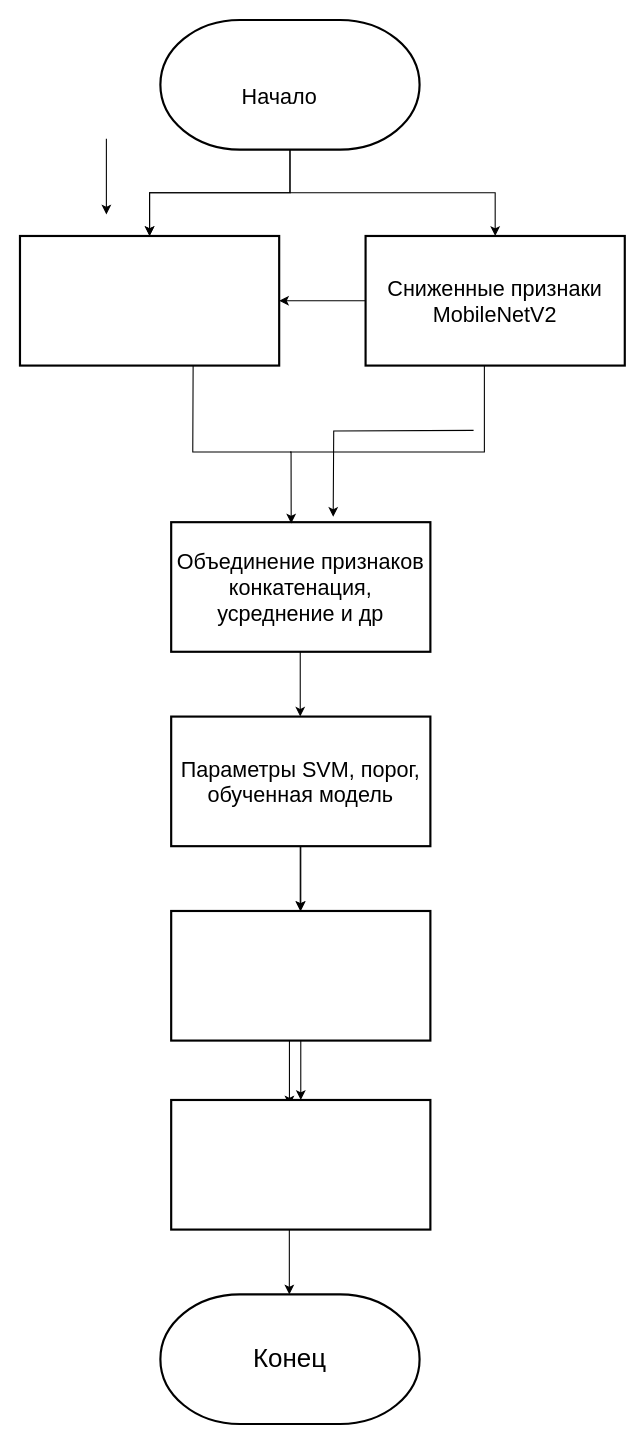
Some shapes in this 644 by 1443 pixel diagram are drawn without their labels. Here are the shapes that lost their labels. From the top down, the box of each, then its label:
(18, 234, 280, 366): Сниженные признаки SURF
(170, 909, 431, 1041): Классификация с помощью SVM (Scikit-learn, скрипт)
(170, 1098, 431, 1230): Класс распознанного объекта
